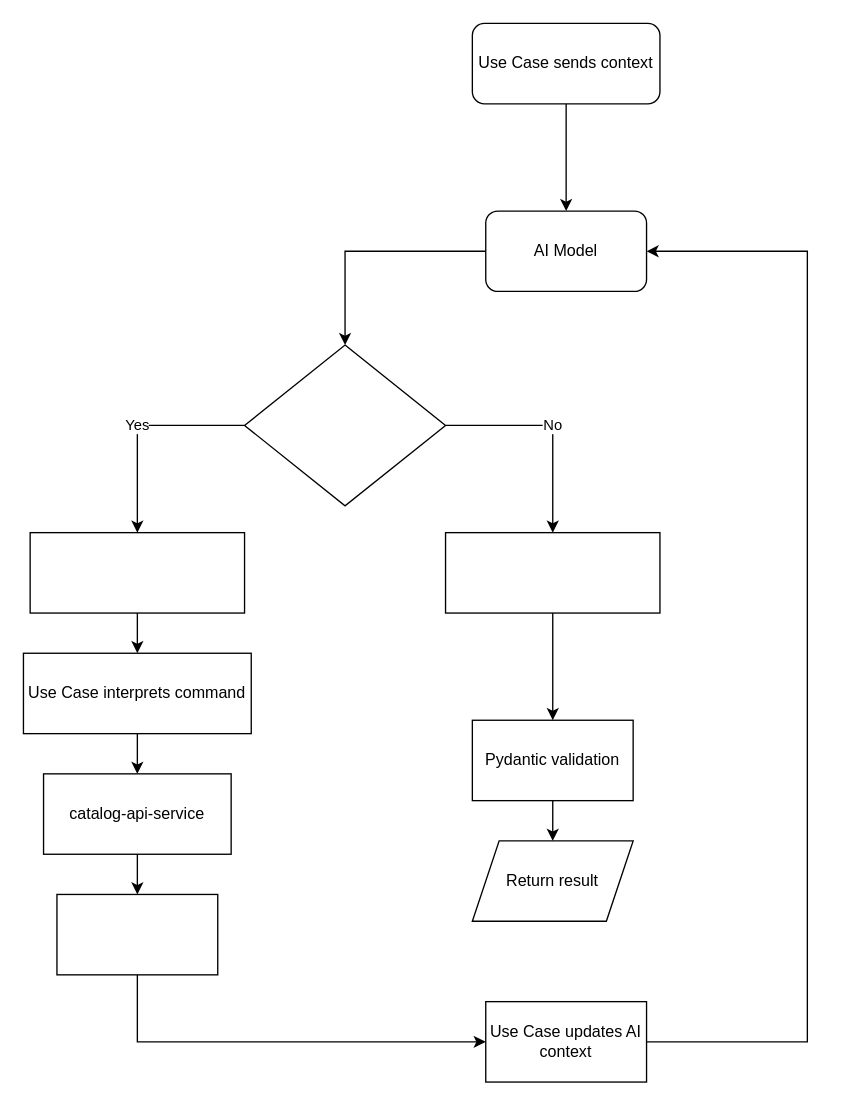
The diagram is 842 pixels wide and 1106 high, and some of its shapes have lost their labels. The box of each missing label's shape, as (x1, y1, x2, y2) in pixels:
Additional data: (56, 893, 218, 975)
AI required extra data?: (243, 344, 446, 506)
Final structured result: (444, 531, 660, 613)
Return command get-info-about-<>: (29, 531, 245, 613)
